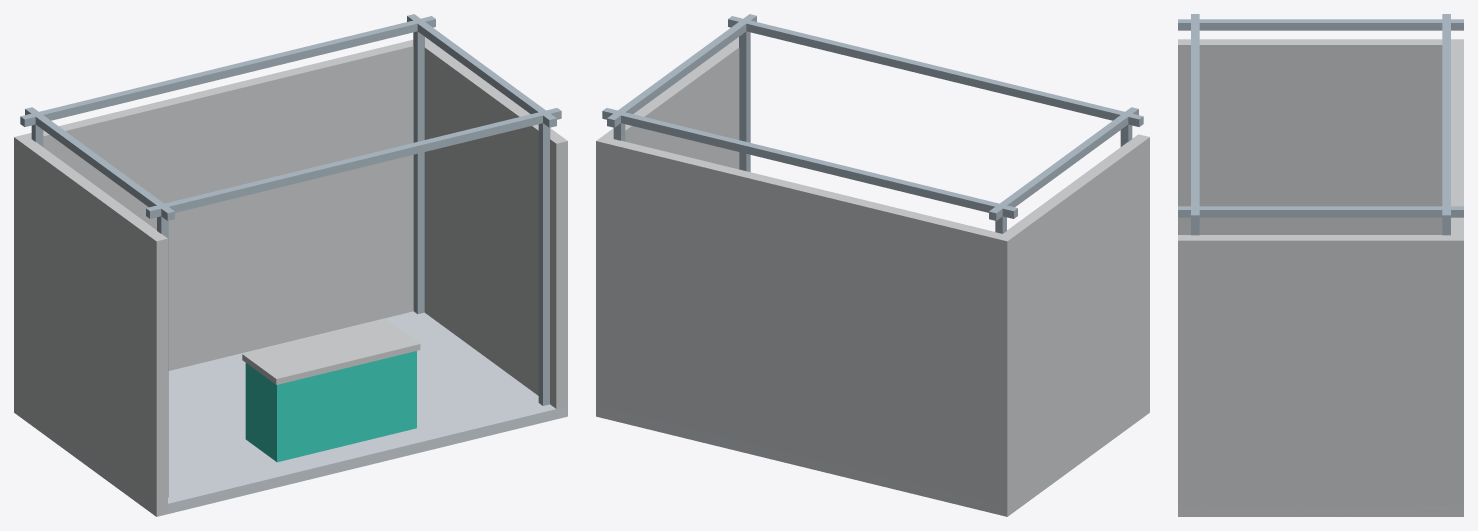
The picture shows the model from 3 angles, left to right: view 1: azimuth 30°, elevation 25°; view 2: azimuth 150°, elevation 25°; view 3: azimuth 270°, elevation 25°; orthographic projection.
Parts seen in each view (by area): view 1: Exhibition Booth Concept; view 2: Exhibition Booth Concept; view 3: Exhibition Booth Concept.
Part boxes in pixels (x1=…): Exhibition Booth Concept: x1=14, y1=14, x2=567, y2=516; Exhibition Booth Concept: x1=596, y1=14, x2=1149, y2=516; Exhibition Booth Concept: x1=1178, y1=14, x2=1463, y2=516.
Bounding box in the file's own units: 5 × 3.49 × 3.
